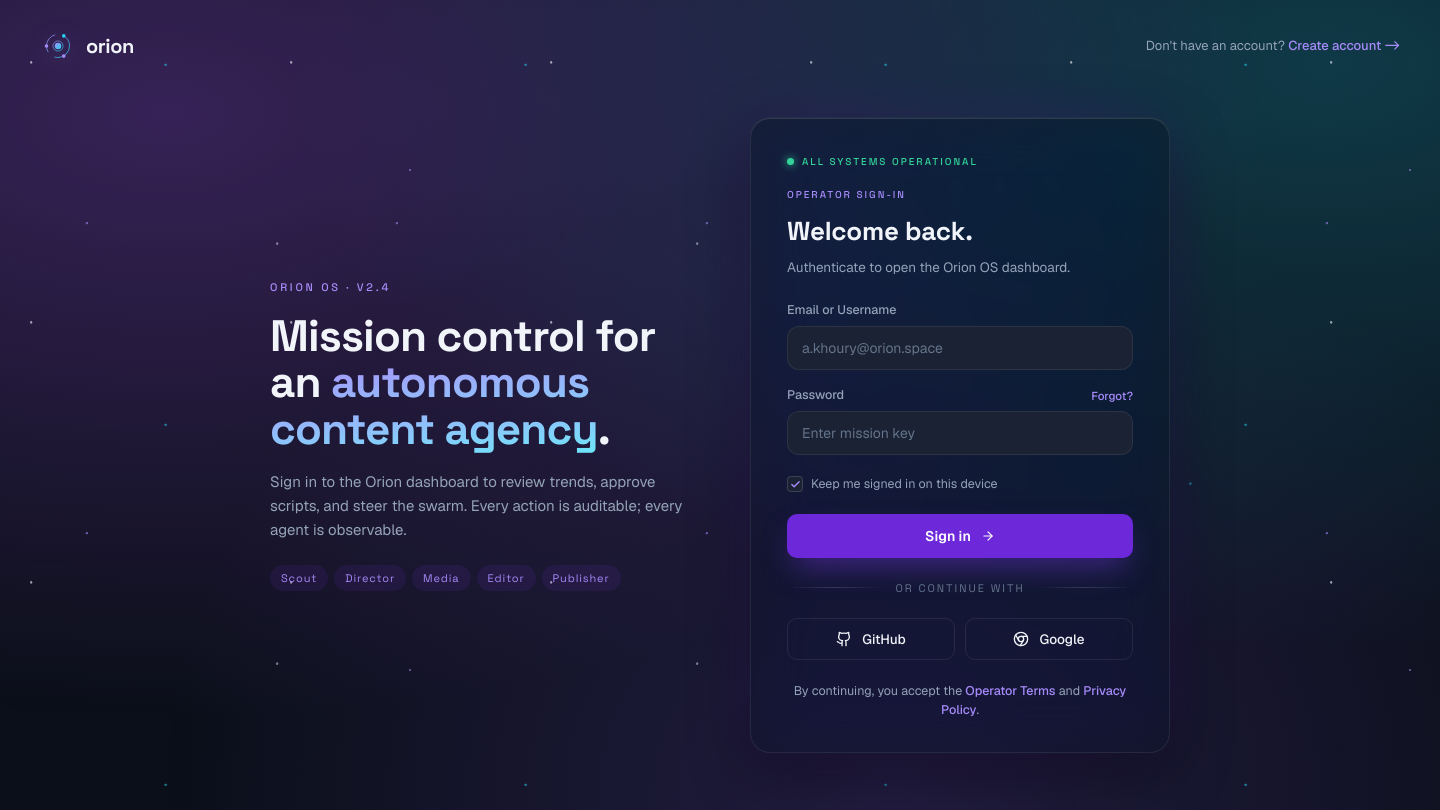
Test case: LoginForm › shows error message on failed login
The image size is (1440, 810).
In the field labelled "Email or Username": coordinates (960, 348) 787,326 -> 1133,370, type "bad"
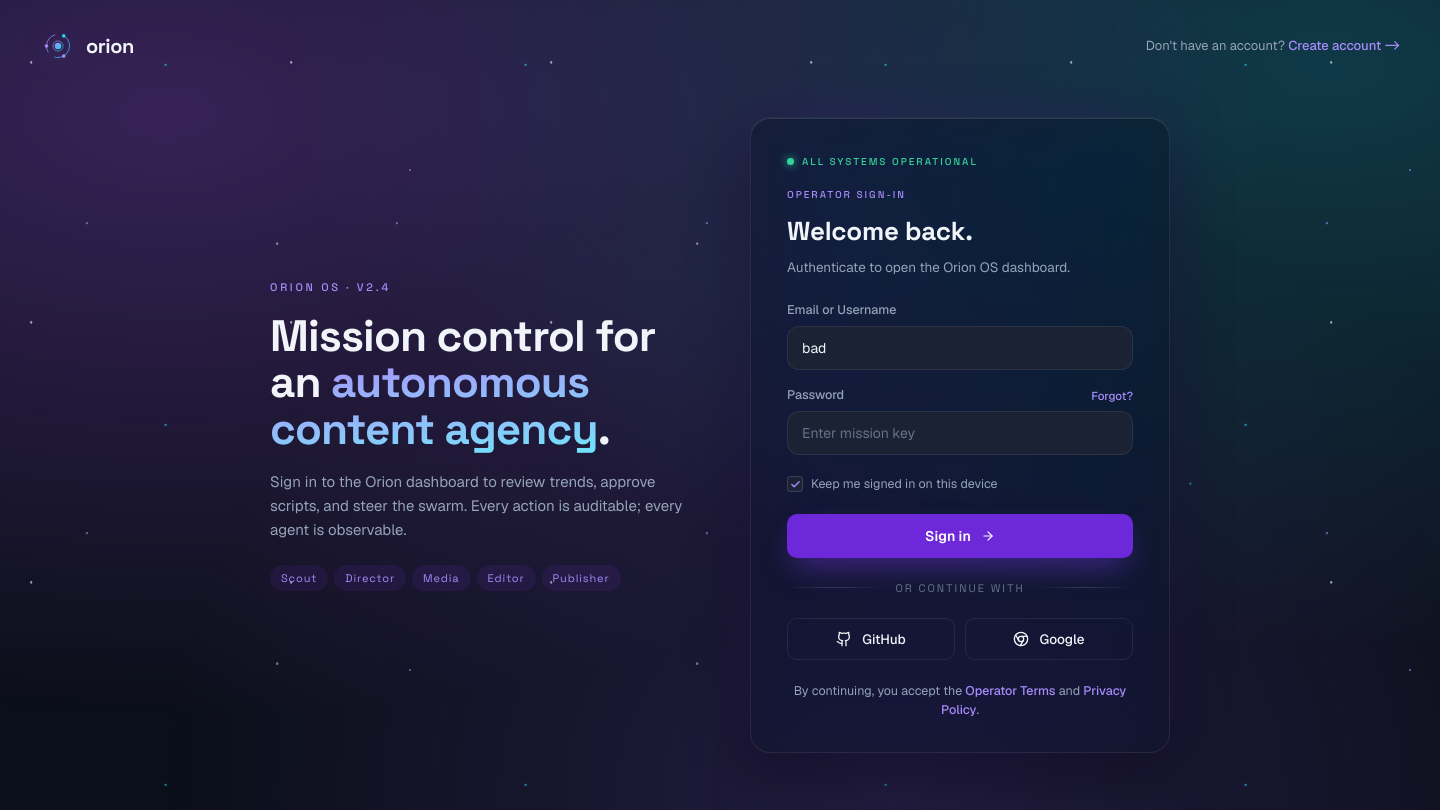
In the password field labelled "Password": coordinates (960, 433) 787,411 -> 1133,455, type "bad"
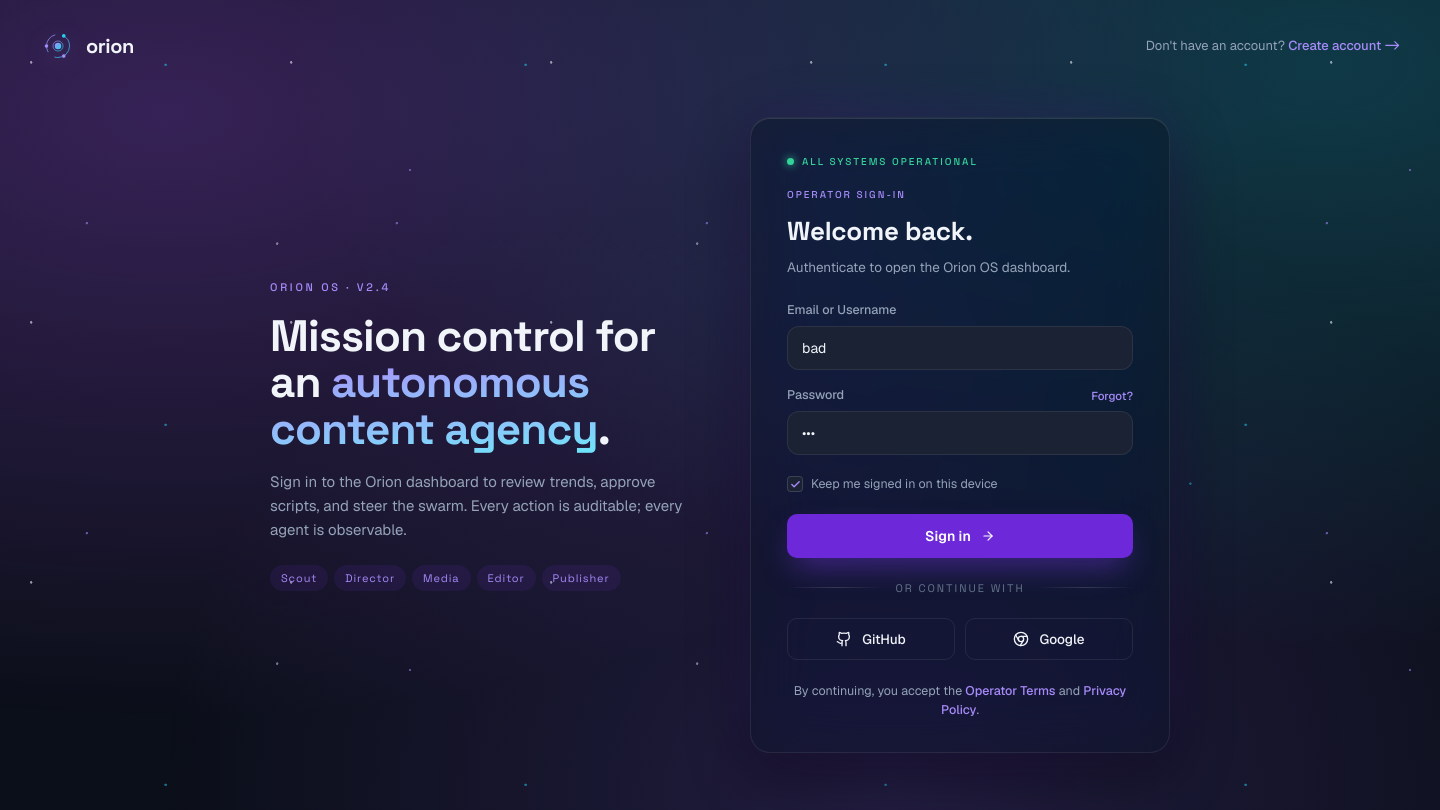
Click the button "Sign in": coordinates (960, 536) 787,514 -> 1133,558
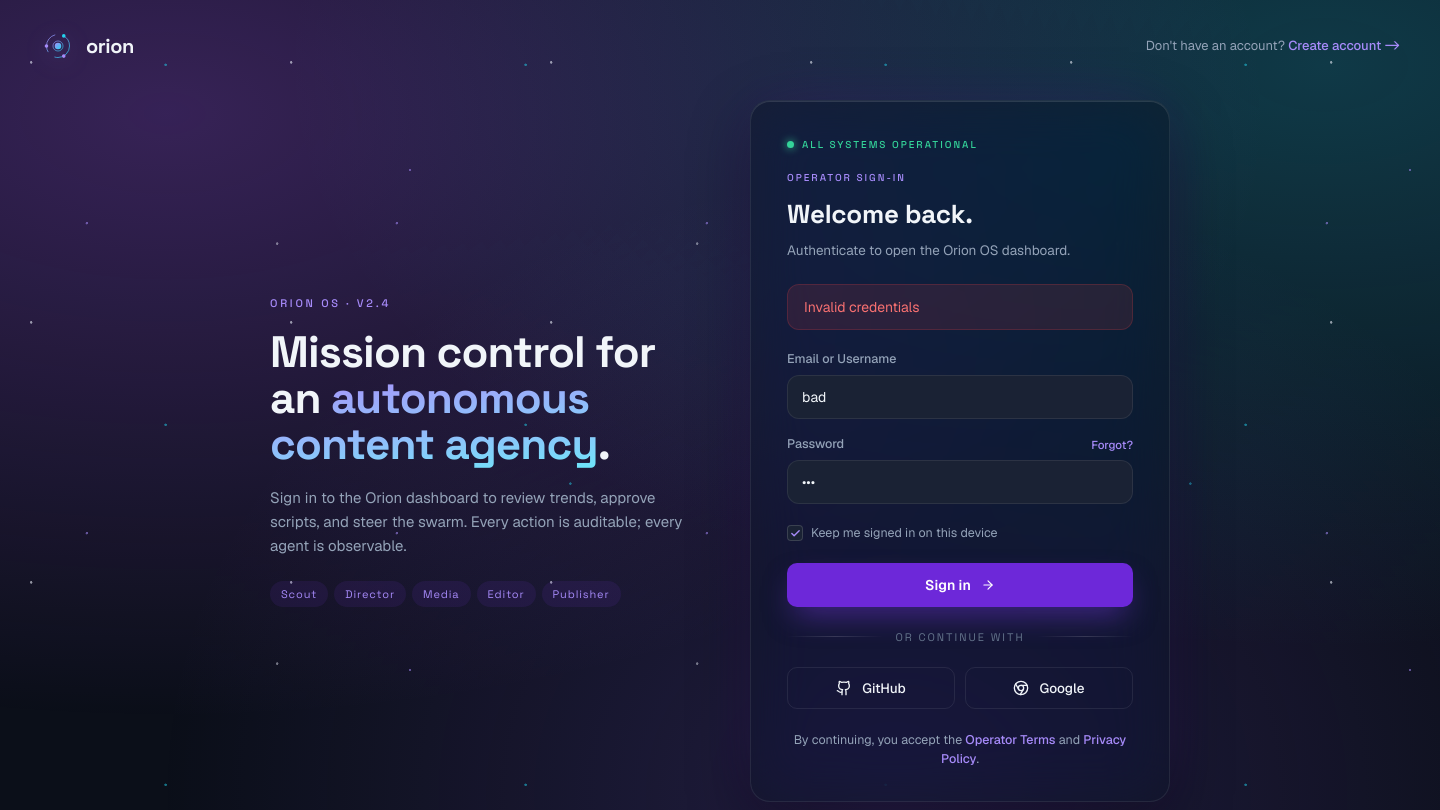
Check: the text "Invalid credentials" is shown, box 787,284 -> 1133,330
